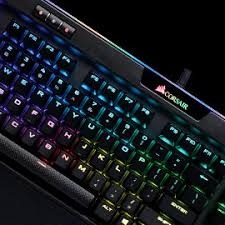keyboard: (0, 1, 225, 225)
